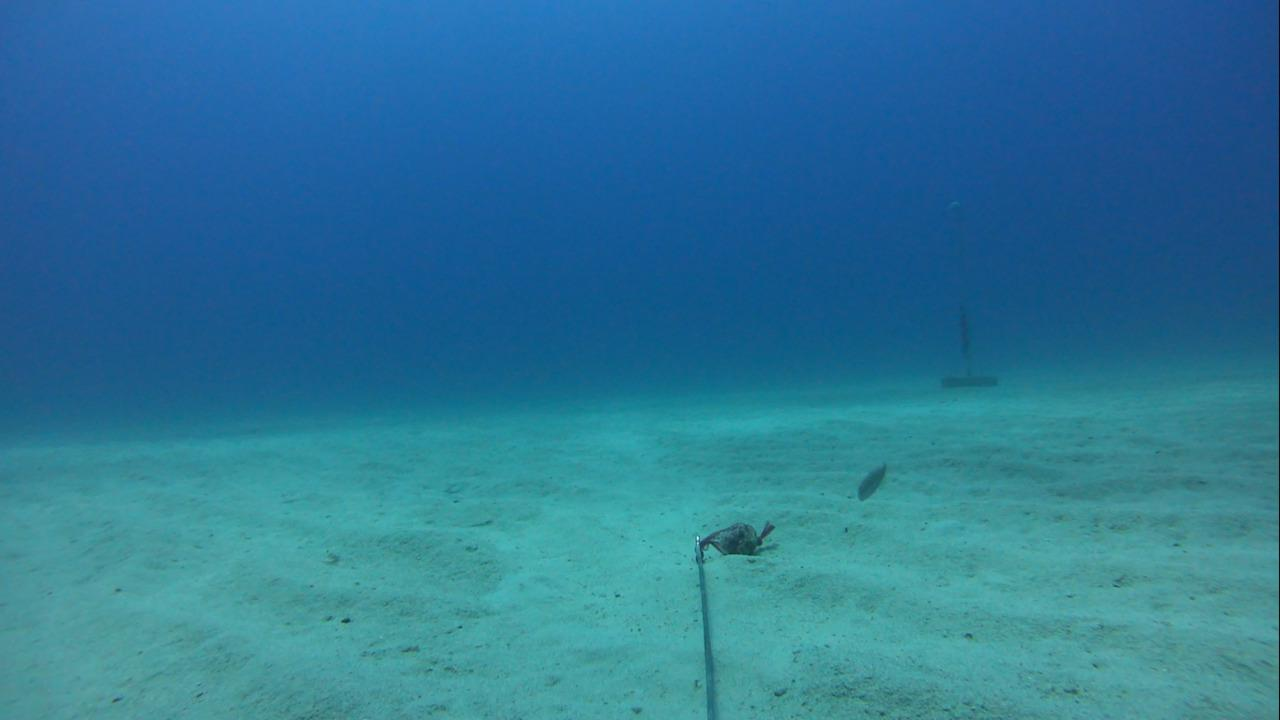raor: (845, 458, 899, 503)
